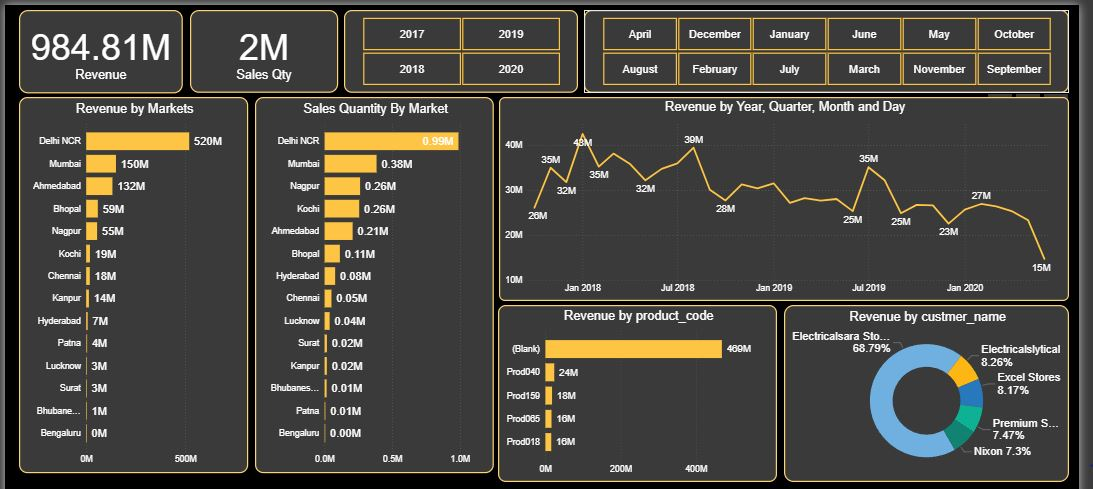

The page's visual inventory and layout, read from the dashboard file:
{"tool":"powerbi","page":{"name":"Page 1","canvas":[1791,901],"ordinal":0},"visuals":[{"type":"card","fields":{"Values":["BaseMeasures.Revenue"]},"box":[23.5,7.7,272.9,138.6],"z":0},{"type":"card","fields":{"Values":["BaseMeasures.Sales Qty"]},"box":[305,7.7,247.1,138.6],"z":1000},{"type":"barChart","title":"Total Revenue Based on Markets","fields":{"Y":["BaseMeasures.Revenue"],"Category":["sales markets.markets_name"]},"box":[23.5,153.4,378.6,612.9],"z":2000},{"type":"barChart","title":"Total Sales Qty Based on Markets","fields":{"Y":["Sum(sales transactions.sales_qty)"],"Category":["sales markets.markets_name"]},"box":[407.8,153.4,385.7,612.9],"z":3000},{"type":"slicer","fields":{"Values":["sales date.year"]},"box":[560.7,7.7,368.6,138.6],"z":4000},{"type":"slicer","fields":{"Values":["sales date.month_name"]},"box":[942.1,7.7,782.9,138.6],"z":5000},{"type":"barChart","title":"Top 5 Customers","fields":{"Y":["BaseMeasures.Revenue"],"Category":["sales customers.custmer_name"]},"box":[1252.9,500,475,266.2],"z":6000},{"type":"barChart","title":"Top 5 Products","fields":{"Y":["BaseMeasures.Revenue"],"Category":["sales products.product_code"]},"box":[798.5,500,450,266.2],"z":7000},{"type":"lineChart","title":"Revenue Trend","fields":{"Y":["BaseMeasures.Revenue"],"Category":["sales date.cy_date.Variation.Date Hierarchy.Year","sales date.cy_date.Variation.Date Hierarchy.Quarter","sales date.cy_date.Variation.Date Hierarchy.Month","sales date.cy_date.Variation.Date Hierarchy.Day"]},"box":[799.2,153.4,928.6,340],"z":8000}]}

Visuals, with their boxes on the page's 1791x901 design canvas (x1, y1, x2, y2). These are canvas units, not pixel positions in the 1093x489 screenshot, which may show the page scaled, cropped or inside an application window:
card - BaseMeasures.Revenue: x1=24, y1=8, x2=296, y2=146
card - BaseMeasures.Sales Qty: x1=305, y1=8, x2=552, y2=146
"Total Revenue Based on Markets" barChart: x1=24, y1=153, x2=402, y2=766
"Total Sales Qty Based on Markets" barChart: x1=408, y1=153, x2=794, y2=766
slicer - sales date.year: x1=561, y1=8, x2=929, y2=146
slicer - sales date.month_name: x1=942, y1=8, x2=1725, y2=146
"Top 5 Customers" barChart: x1=1253, y1=500, x2=1728, y2=766
"Top 5 Products" barChart: x1=798, y1=500, x2=1248, y2=766
"Revenue Trend" lineChart: x1=799, y1=153, x2=1728, y2=493
